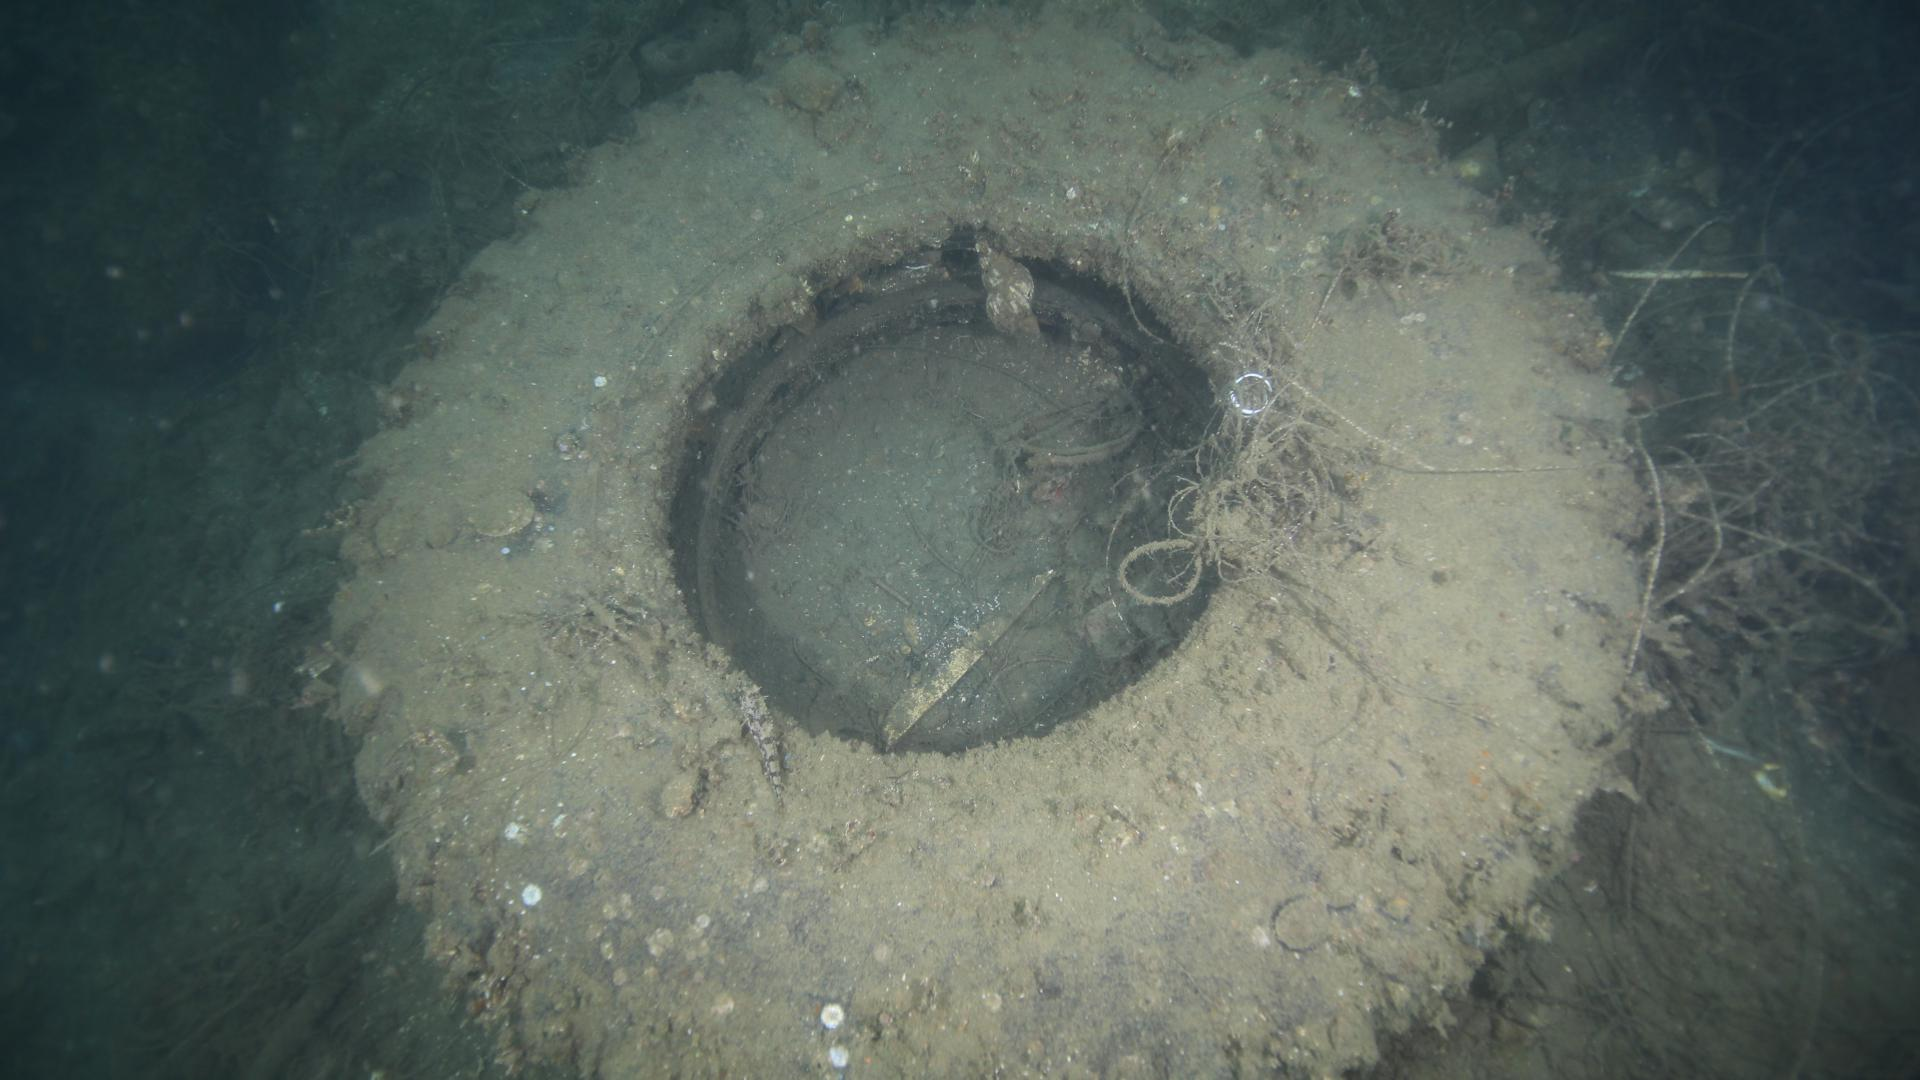tire: (324, 0, 1669, 1080)
